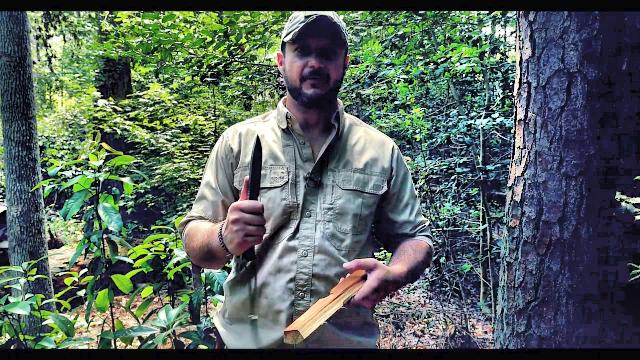knife: (228, 131, 268, 235)
